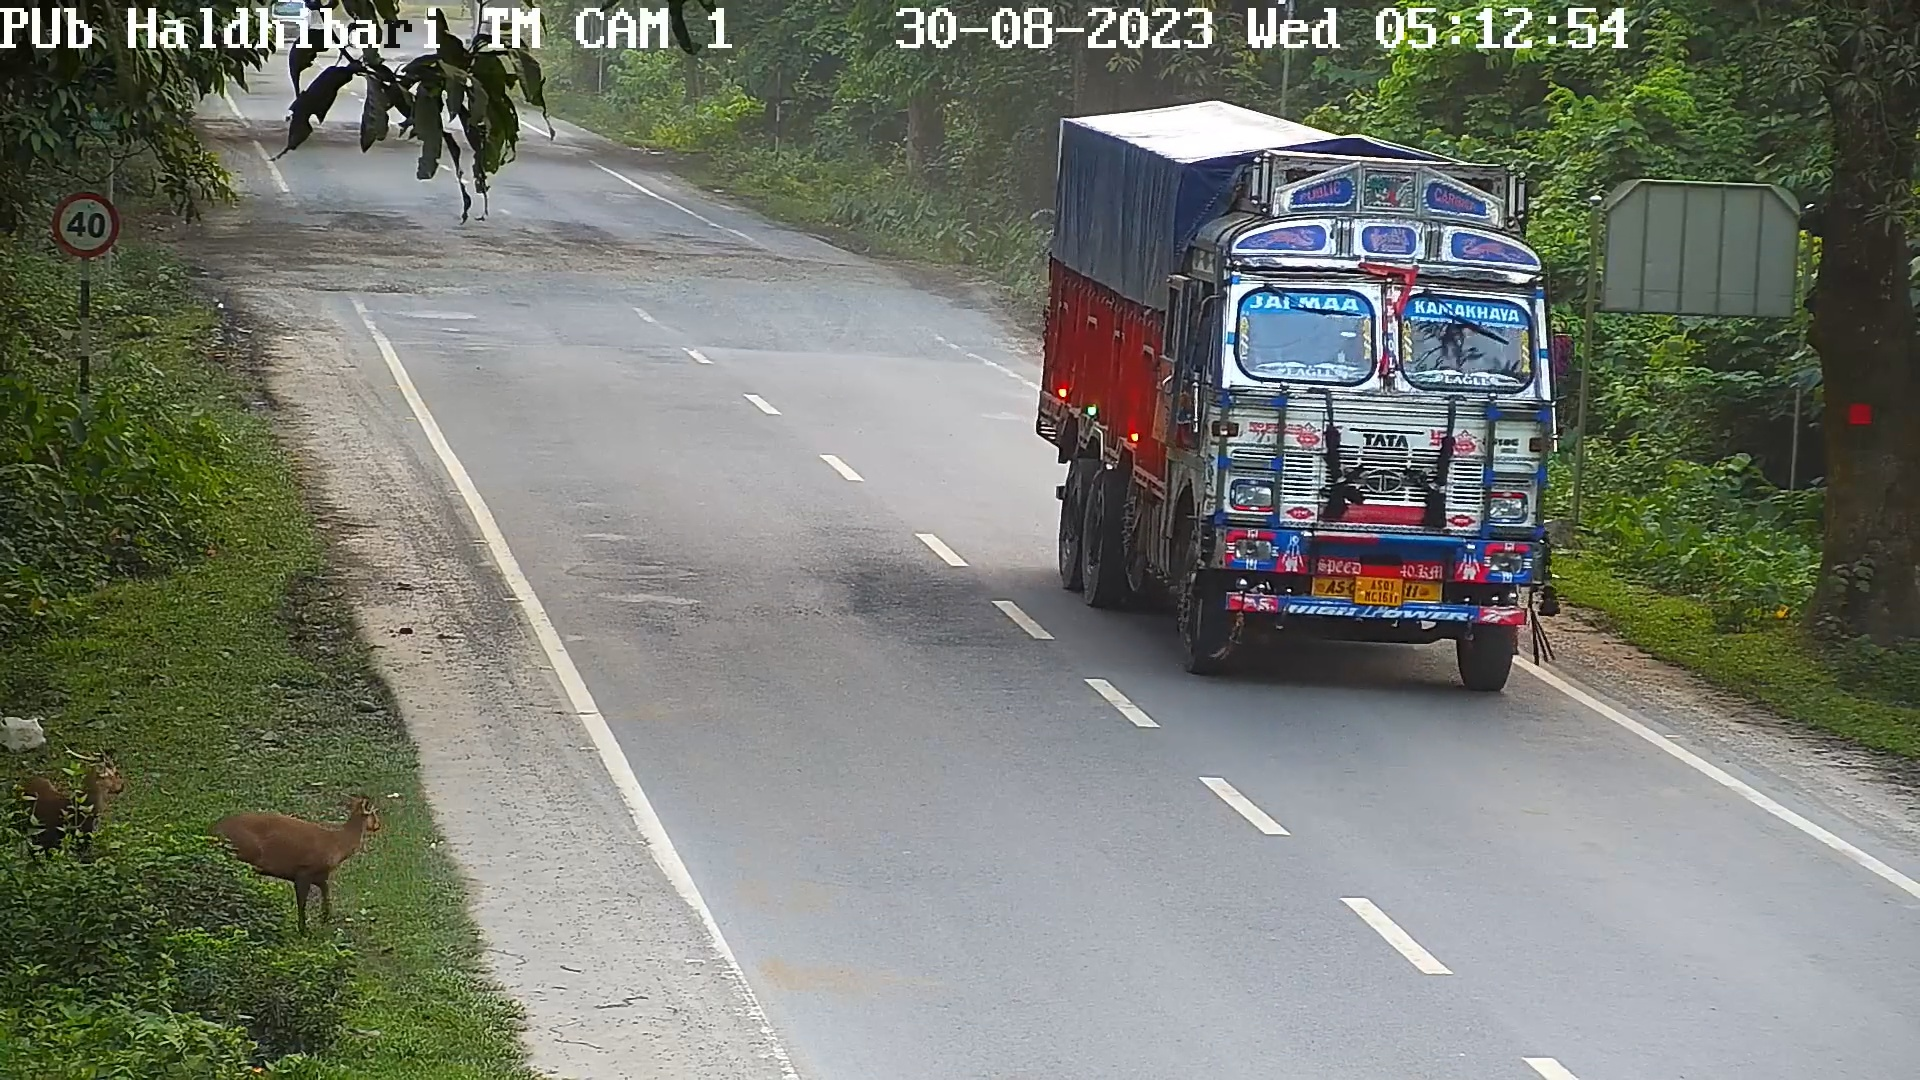deers: (0, 699, 154, 932), (228, 736, 397, 936)
